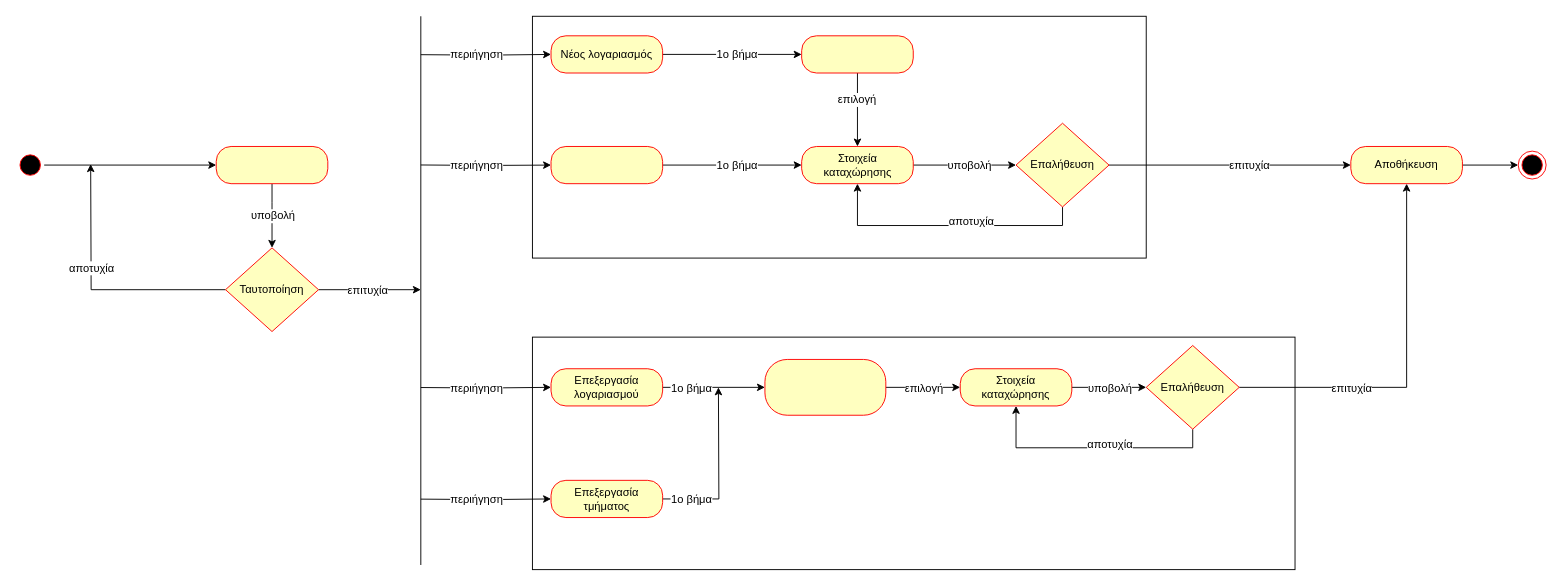
The diagram is 1562 pixels wide and 586 high, and some of its shapes have lost their labels. The shapes that lost their labels are listed below. From the top down, each one's centre as x and y in pixels, then its label:
point 857,54: Ρόλος
point 271,165: Σύνδεση με στοιχεία super admin
point 606,165: Νέο τμήμα
point 825,387: Καταχώρηση προς τροποίηση
